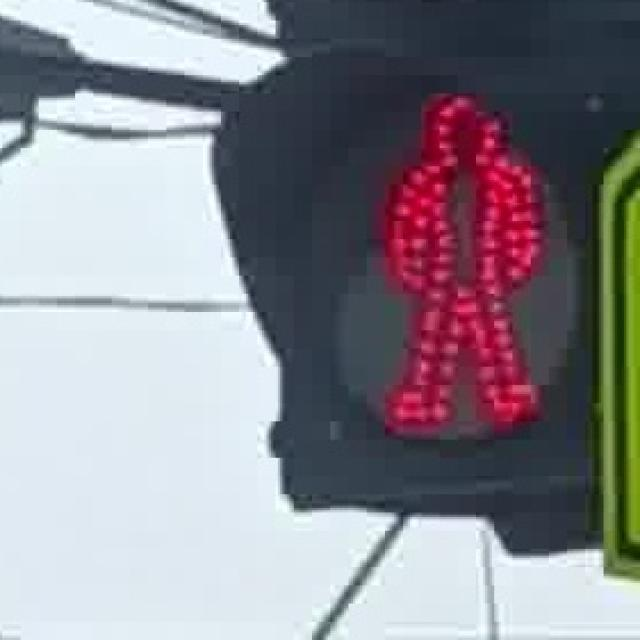red-crossing: (342, 61, 564, 448)
